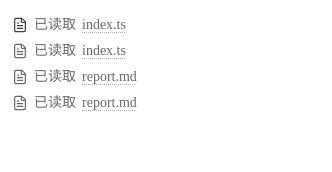
Scenario: compact read file rows › navigates same-named files with their authoritative path and turn identity by mouse and keyboard
The image size is (332, 172).
expect the button with aria-label "packages/ui/index.ts" reads "index.ts": met, box [82,41,126,61]
Click the button with aria-label "packages/core/index.ts" at (104, 25), box [82,15,126,35]
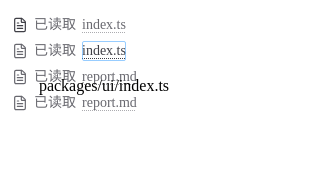
Press Enter
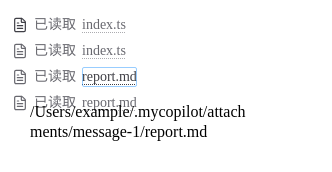
Type keys " "
Click the button named "C:\\work\\outside\\report.md" at (109, 103), box [82,93,137,113]
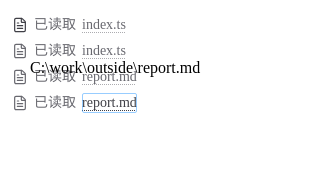
Hover over the button with aria-label "packages/core/index.ts" at (104, 25), box [82,15,126,35]
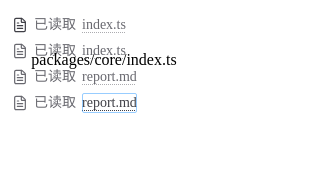
expect the tooltip reads "packages/core/index.ts": met, box [31,51,177,68]
